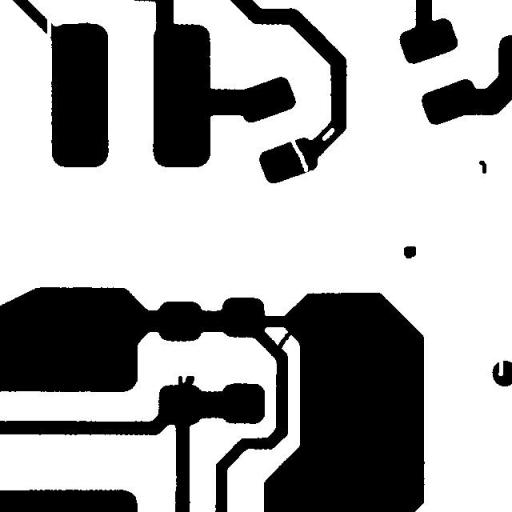copper: (396, 238, 423, 266), (471, 153, 494, 181)
mousebite: (490, 350, 510, 383)
open: (282, 130, 315, 179), (38, 6, 58, 48)
pin-hole: (314, 120, 342, 148)
short: (270, 322, 300, 358)
spur: (170, 368, 202, 398)
